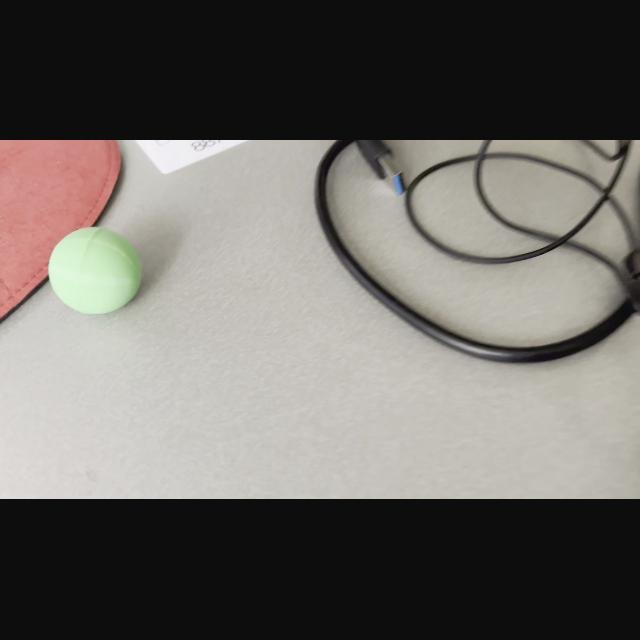objects: (45, 222, 149, 322)
